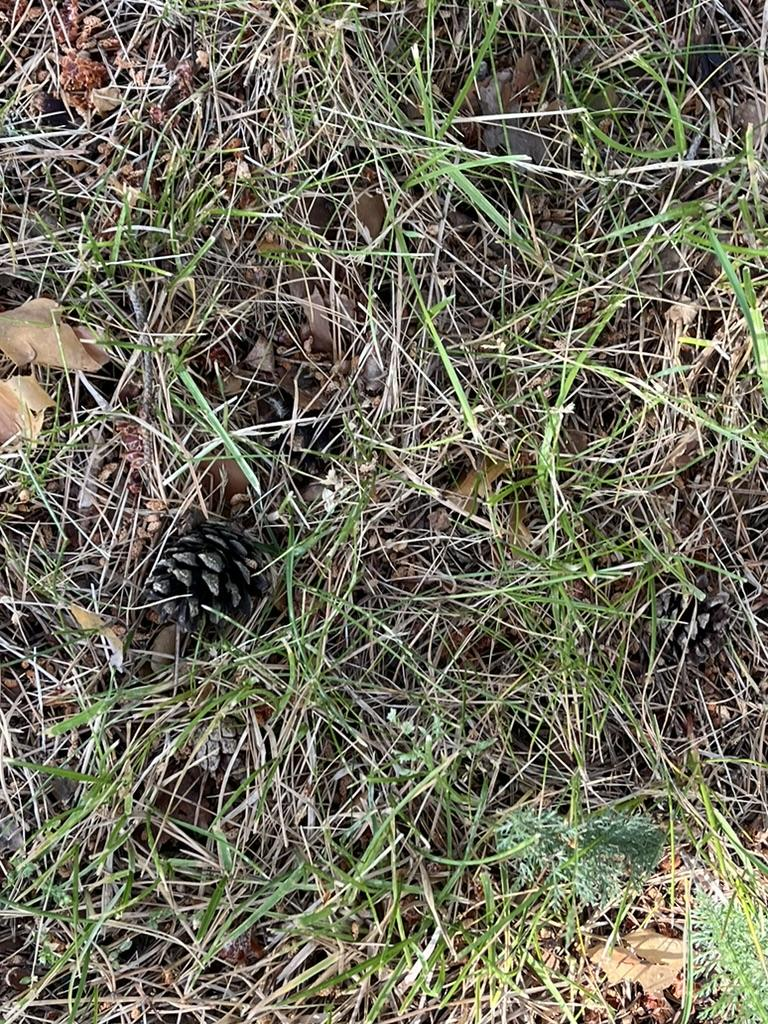pine: (144, 518, 286, 646)
